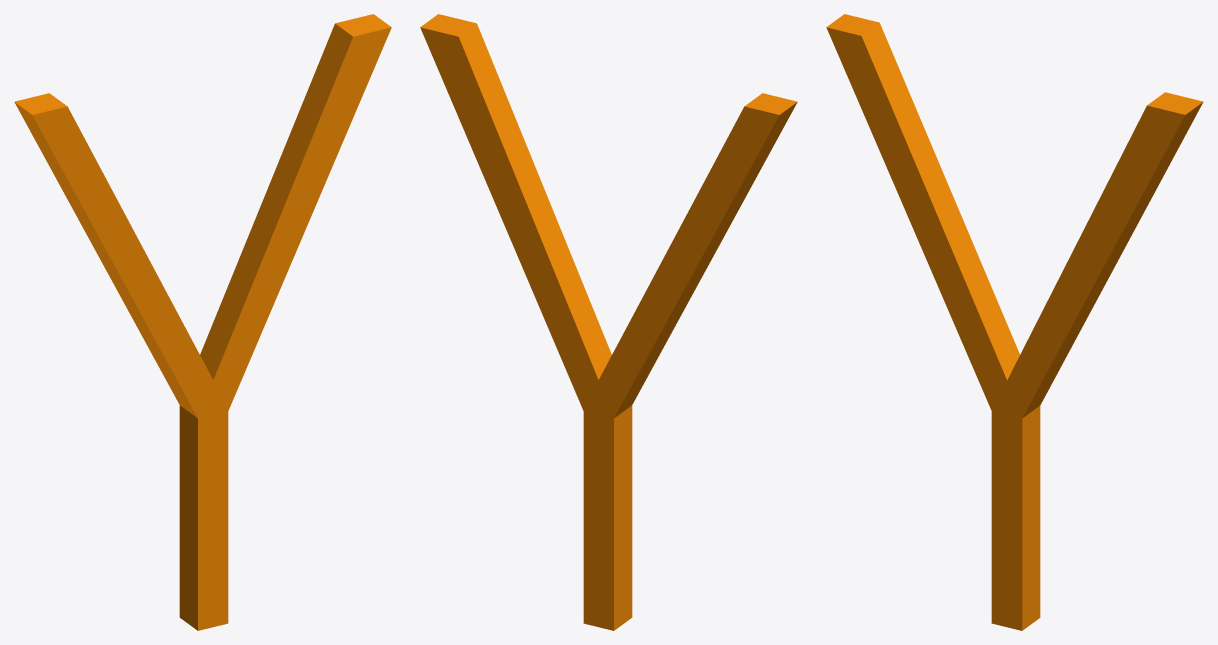
3 renders of one model, left to right at view 1: azimuth 30°, elevation 25°; view 2: azimuth 150°, elevation 25°; view 3: azimuth 330°, elevation 25°, orthographic.
Parts seen in each view (by area): view 1: Y; view 2: Y; view 3: Y.
Part boxes in pixels (<box>): Y: <box>14,14,391,630</box>; Y: <box>420,14,797,630</box>; Y: <box>826,14,1203,630</box>.
Size of the model in its own units: 56.86 by 84.1 by 5.
